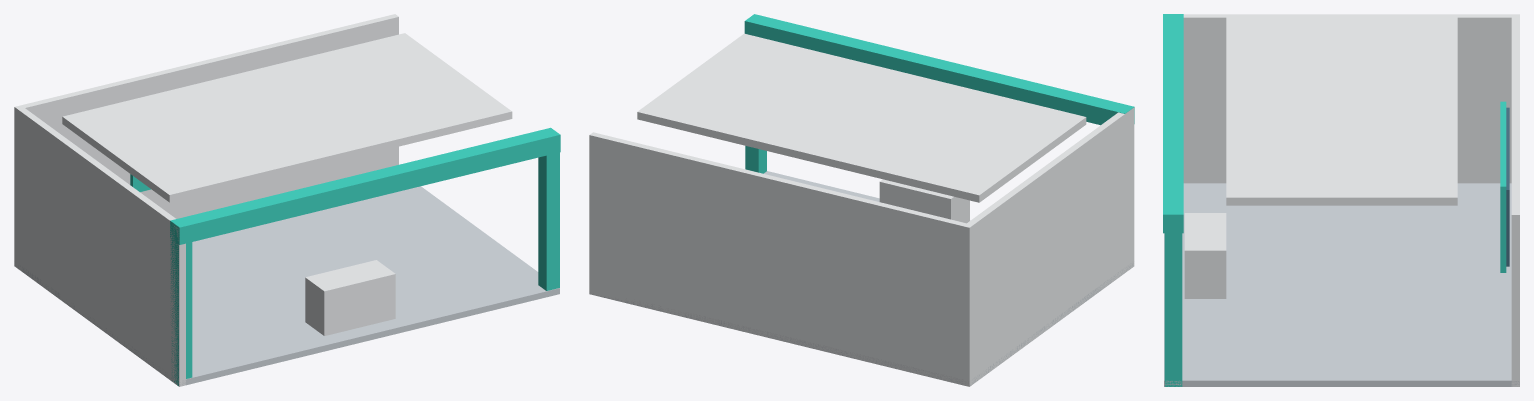
The picture shows the model from 3 angles, left to right: view 1: azimuth 30°, elevation 25°; view 2: azimuth 150°, elevation 25°; view 3: azimuth 270°, elevation 25°; orthographic projection. The views are drawn at different scales.
Visible parts, largest first — view 1: Exhibition Booth Concept; view 2: Exhibition Booth Concept; view 3: Exhibition Booth Concept.
Boxes of the visible parts, <box> form: Exhibition Booth Concept: <box>14,14,560,386</box>; Exhibition Booth Concept: <box>589,14,1134,386</box>; Exhibition Booth Concept: <box>1163,14,1519,386</box>.
Bounding box in the file's own units: 8 × 3.34 × 6.02.
